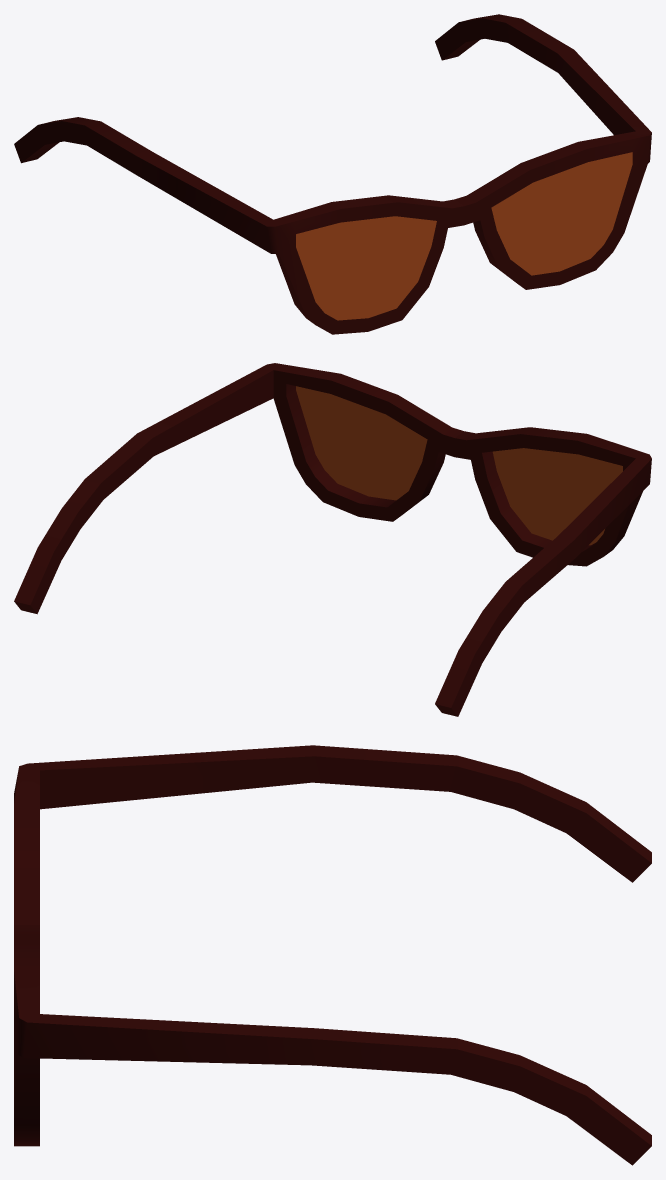
Rendered from Sunglass1.fbx.
3 views of the same model, one above another, from view 1: azimuth 30°, elevation 25°; view 2: azimuth 150°, elevation 25°; view 3: azimuth 270°, elevation 25° (orthographic). The views are drawn at different scales.
Visible parts, largest first — view 1: sunglassnilsu; view 2: sunglassnilsu; view 3: sunglassnilsu.
Part boxes in pixels (bbox=[...]): sunglassnilsu: bbox=[14, 14, 651, 334]; sunglassnilsu: bbox=[14, 363, 651, 716]; sunglassnilsu: bbox=[14, 745, 651, 1165].
Bounding box in the file's own units: 13.34 × 3.78 × 12.24.
